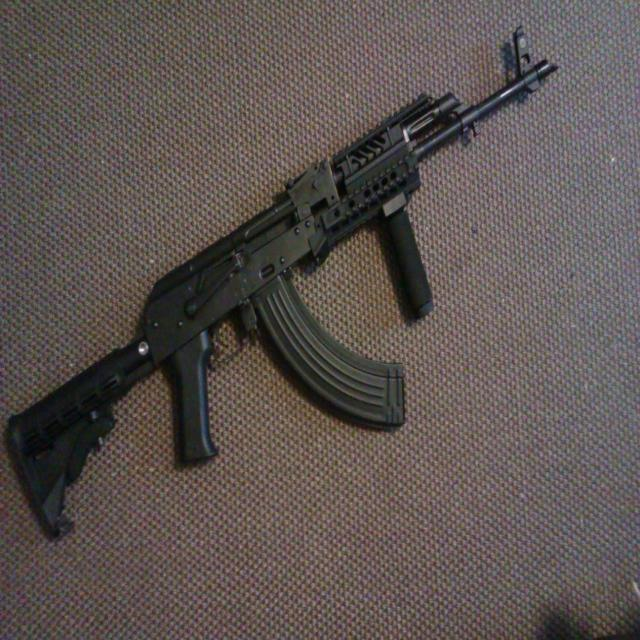firearm: (6, 28, 558, 538)
